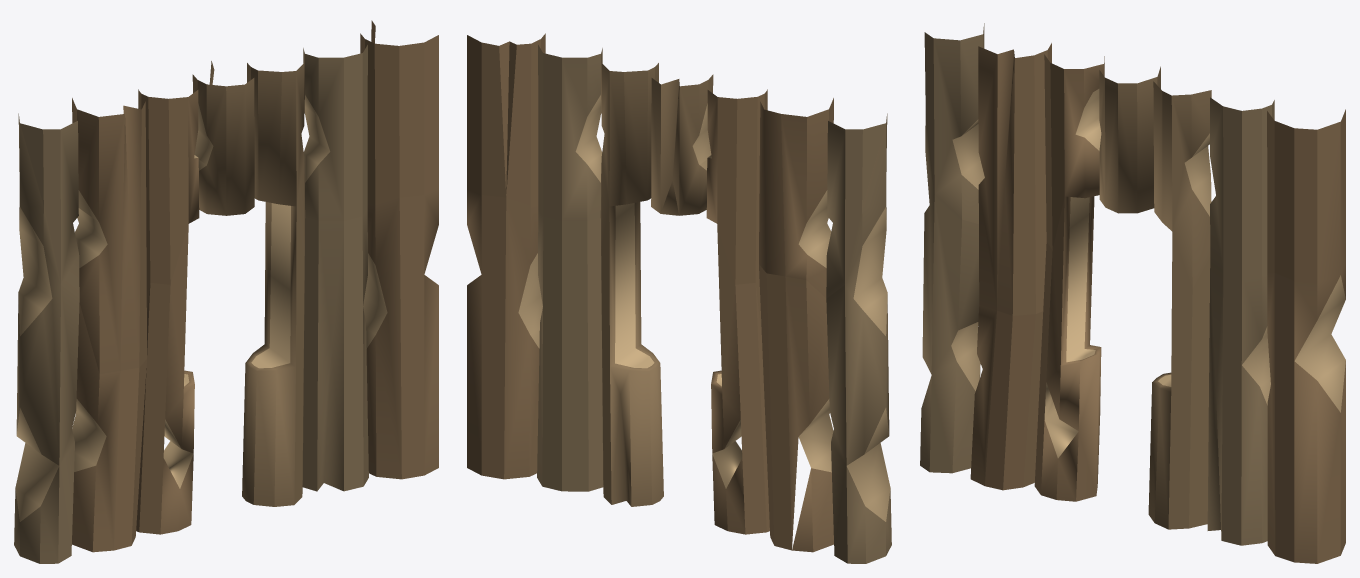
File: rpgpp_av_wall_04_3x3_window_03b.gltf
3 views of the same model, side by side, from view 1: azimuth 30°, elevation 25°; view 2: azimuth 150°, elevation 25°; view 3: azimuth 330°, elevation 25° (orthographic).
Parts seen in each view (by area): view 1: rpgpp_av_wall_04_3x3_window_03b; view 2: rpgpp_av_wall_04_3x3_window_03b; view 3: rpgpp_av_wall_04_3x3_window_03b.
Part boxes in pixels (<box>): rpgpp_av_wall_04_3x3_window_03b: <box>14,20,438,563</box>; rpgpp_av_wall_04_3x3_window_03b: <box>467,33,891,563</box>; rpgpp_av_wall_04_3x3_window_03b: <box>920,23,1345,563</box>.
Size of the model in its own units: 0.03 by 0.03 by 0.00463.
1 material, 1 textured.
